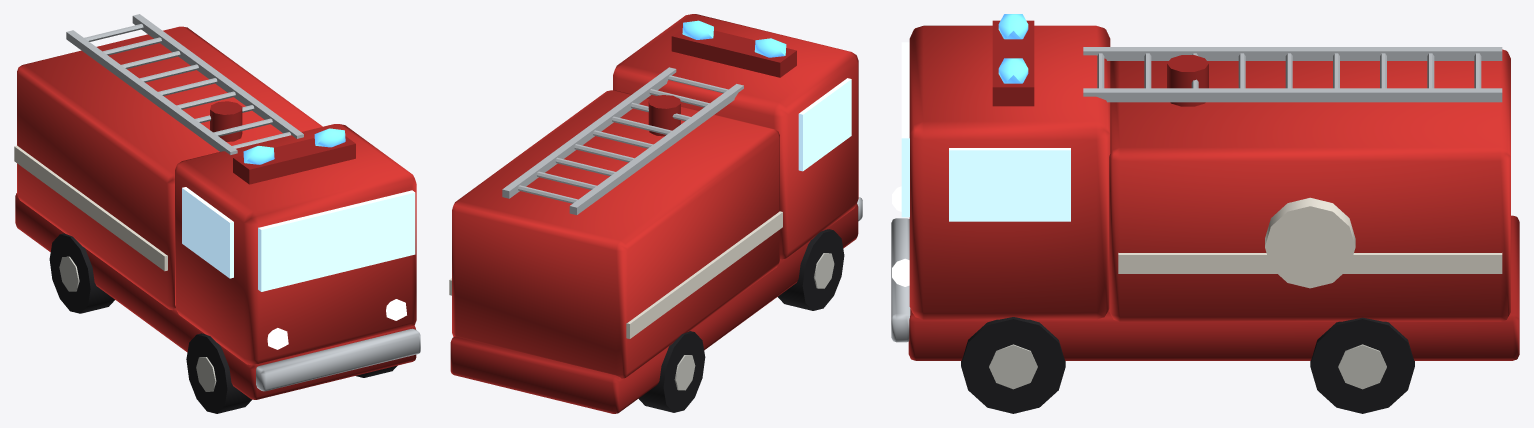
File: v_firetruck.glb
3 renders of one model, left to right at view 1: azimuth 30°, elevation 25°; view 2: azimuth 150°, elevation 25°; view 3: azimuth 270°, elevation 25°, orthographic. The views are drawn at different scales.
Visible parts, largest first — view 1: FireTruck; view 2: FireTruck; view 3: FireTruck.
Boxes of the visible parts, <box> form: FireTruck: <box>14,14,420,413</box>; FireTruck: <box>449,14,862,413</box>; FireTruck: <box>891,14,1519,413</box>.
Size of the model in its own units: 1.6 by 2.04 by 3.6.
